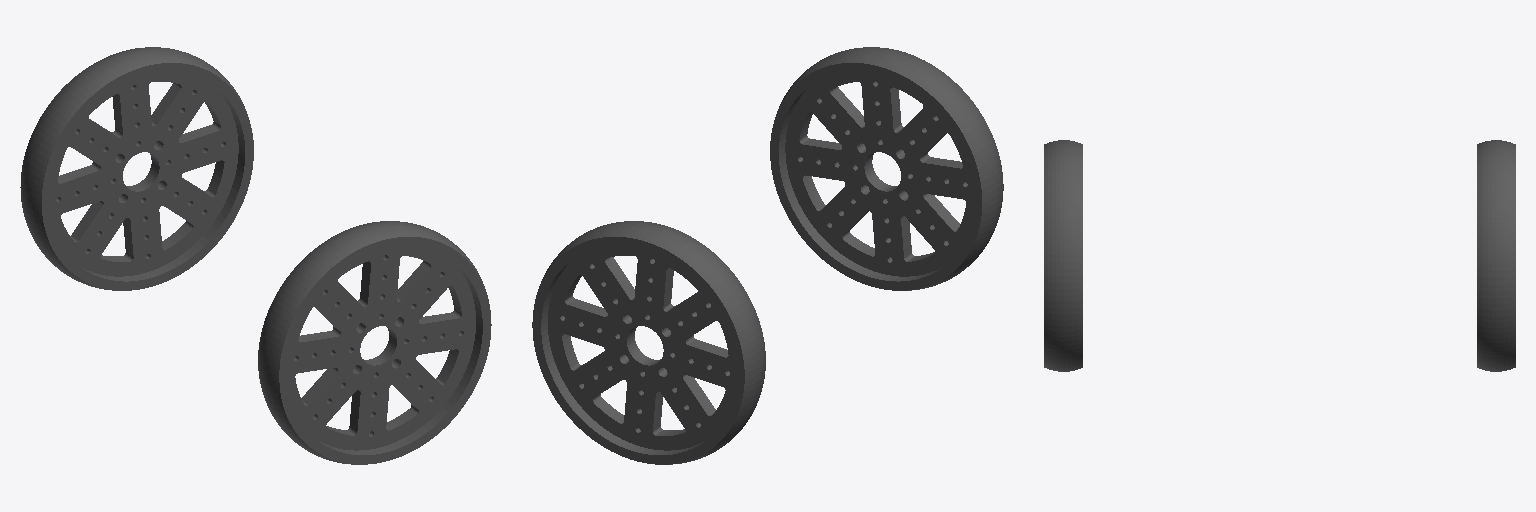
The robot description file, URDF, robot "raspicat":
<?xml version="1.0" ?>
<robot name="raspicat" xmlns:xacro="http://ros.org/wiki/xacro">
  <!-- =============== Link & Joint =============== -->
  <!-- Base -->
  <link name="base_link"/>

  <joint name="base_joint" type="fixed">
    <origin xyz="0 0 0.010"/>
    <parent link="base_link"/>
    <child link="base_link_2"/>
  </joint>

  <link name="base_link_2">
    <visual>
      <geometry>
        <mesh filename="package://raspicat/meshes/bases/raspberry_pi_cat.stl" scale="0.001 0.001 0.001"/>
      </geometry>
      <material name="light_black">
        <color rgba="0.4 0.4 0.4 1.0"/>
      </material>
    </visual>
  </link>

  <joint name="left-wheel_joint" type="continuous">
    <origin xyz="0 0.14 0.0" rpy="0 0 0"/>
    <axis xyz="0 1 0"/>
    <parent link="base_link_2"/>
    <child link="left-wheel"/>
  </joint>

  <link name="left-wheel">
    <visual>
      <origin xyz="0 -0.04 0" rpy="0 0 0"/>
        <geometry>
          <mesh filename="package://raspicat/meshes/wheel/raspberry_pi_cat_wheel_left.stl" scale="0.001 0.001 0.001"/>
        </geometry>
        <material name="light_black">
          <color rgba="0.4 0.4 0.4 1.0"/>
        </material>
    </visual>
  </link>

  <joint name="right-wheel_joint" type="continuous">
    <origin xyz="0 -0.14 0.0" rpy="0 0 0"/>
    <axis xyz="0 1 0"/>
    <parent link="base_link_2"/>
    <child link="right-wheel"/>
  </joint>

  <link name="right-wheel">
    <visual>
      <origin xyz="0 -0.04 0" rpy="0 0 0"/>
        <geometry>
          <mesh filename="package://raspicat/meshes/wheel/raspberry_pi_cat_wheel_right.stl" scale="0.001 0.001 0.001"/>
        </geometry>
        <material name="light_black">
          <color rgba="0.4 0.4 0.4 1.0"/>
        </material>
    </visual>
  </link>

  <link name="imu_link"/>

  <joint name="imu_joint" type="fixed">
    <parent link="base_link_2"/>
    <child link="imu_link"/>
    <origin xyz="0.0 0.0 0.0762" rpy="0 0 0"/>
  </joint>


  <joint name="urg_joint" type="fixed">
    <parent link="base_link_2"/>
    <child link="urg_lrf_link"/>
    <origin xyz="0.12 0.0 -0.08" rpy="0 0 0"/>
  </joint>

  <link name="urg_lrf_link"/>

</robot>

--- What the picture shows (computed from the rendered views, not written in the file) ---
The picture shows the robot from 3 angles, left to right: view 1: azimuth 30°, elevation 25°; view 2: azimuth 150°, elevation 25°; view 3: azimuth 270°, elevation 25°; orthographic projection.
Model raspicat with 6 links and 5 joints (2 continuous, 3 fixed), rooted at base_link, posed all joints at 0.
Links seen in each view (by area): view 1: right-wheel, left-wheel; view 2: right-wheel, left-wheel; view 3: right-wheel, left-wheel.
Link boxes in pixels (x1,y1,x2,y2): right-wheel: (258,221,491,464); left-wheel: (20,47,253,290); right-wheel: (770,47,1003,290); left-wheel: (532,221,765,464); right-wheel: (1044,140,1082,371); left-wheel: (1477,140,1515,371).
Bounding box of the posed robot: 0.1524 × 0.3096 × 0.1524 m (x, y, z).
2 mesh visuals loaded from 3 distinct referenced files (2 binary STL); not drawn: 1 (reference not matched to a file when rendering).